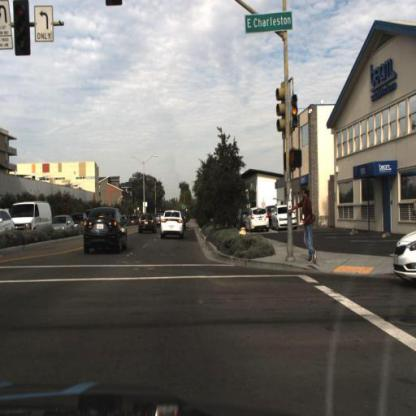car: (83, 207, 129, 258), (394, 224, 416, 293), (11, 201, 54, 235), (159, 211, 186, 243), (271, 204, 298, 235), (244, 207, 271, 236), (137, 211, 160, 238), (50, 212, 78, 234), (243, 208, 268, 231), (52, 216, 74, 234)
pedestrian: (295, 188, 320, 265)
trafficLight-Yellow: (292, 92, 300, 134)
